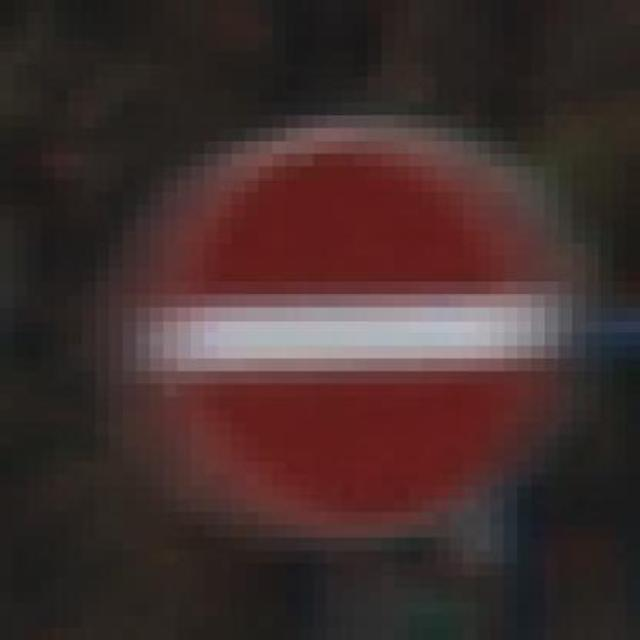B2: (140, 128, 574, 532)
